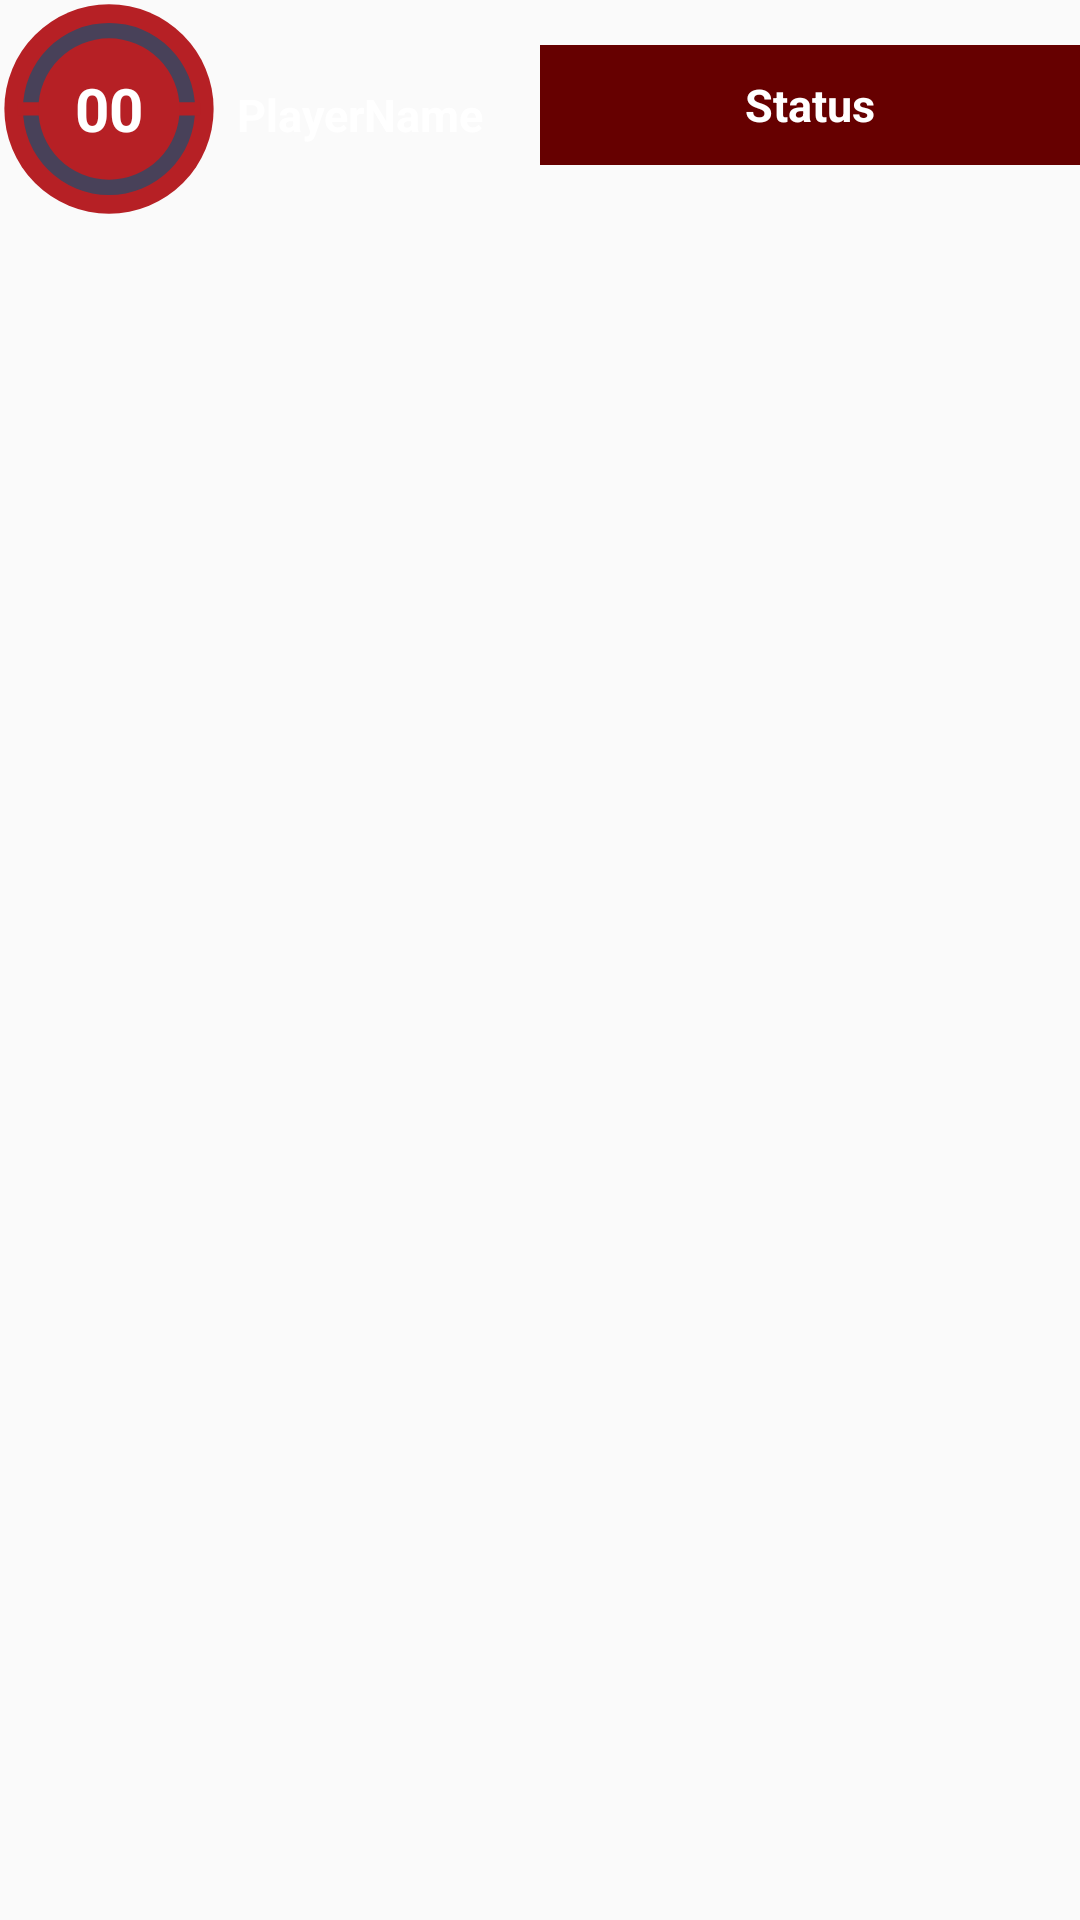

Named icons in this screenshot (1080w x 1920h) and their centers, (x,y):
levelborder: (109,109)
